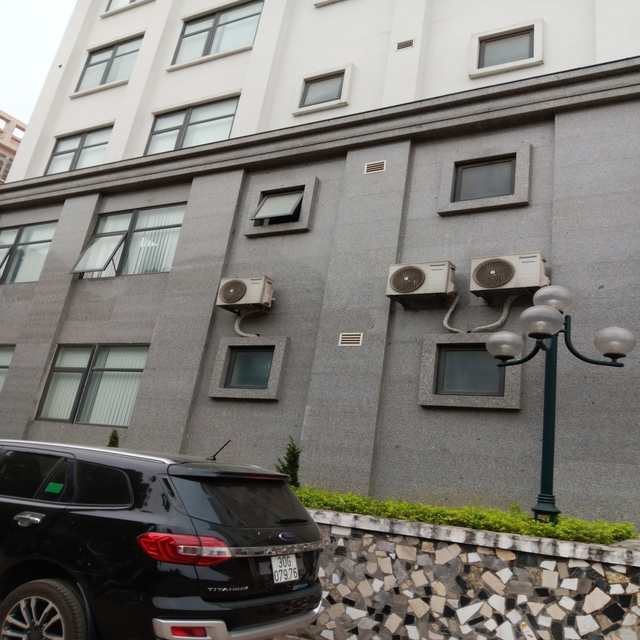cotden: (479, 281, 638, 532)
